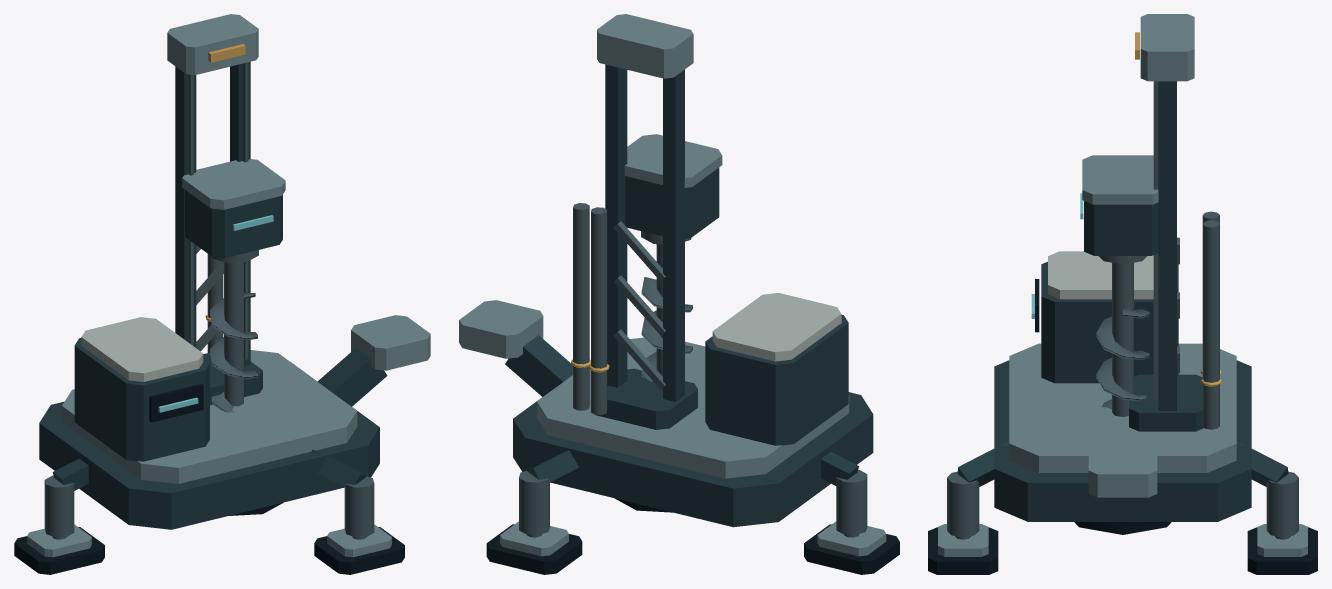
File: drill_d0_lod2.glb
3 renders of one model, left to right at view 1: azimuth 30°, elevation 25°; view 2: azimuth 150°, elevation 25°; view 3: azimuth 270°, elevation 25°, orthographic. The views are drawn at different scales.
Parts seen in each view (by area): view 1: DISTANCE_STATIC; view 2: DISTANCE_STATIC; view 3: DISTANCE_STATIC.
Part boxes in pixels (box(x1,y1,x2,y2)): DISTANCE_STATIC: box(14, 14, 430, 574); DISTANCE_STATIC: box(459, 14, 899, 574); DISTANCE_STATIC: box(928, 14, 1317, 574).
Size of the model in its own units: 5.62 by 6.41 by 4.54.
